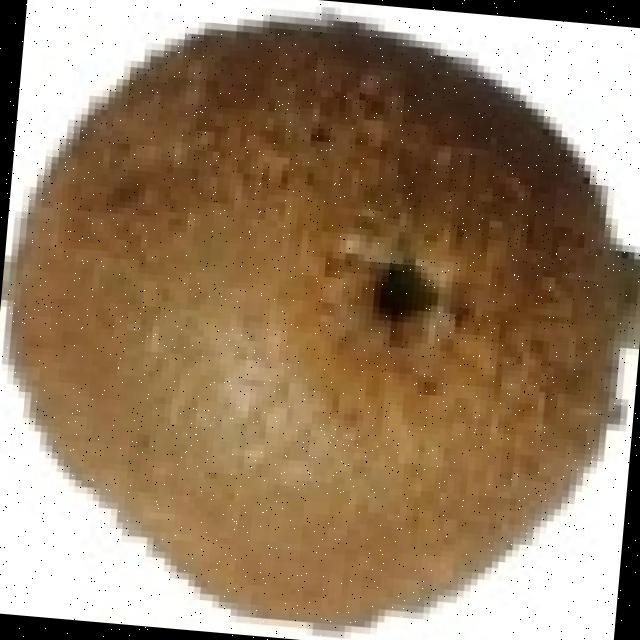kiwi: (13, 22, 640, 628)
